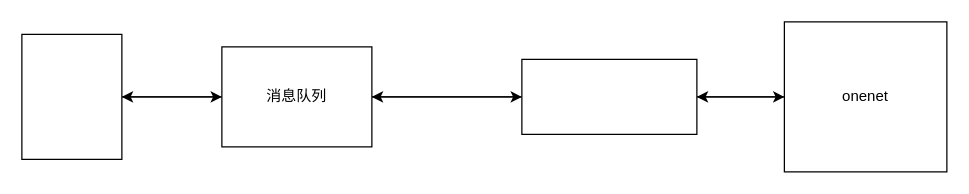
This 969x194 diagram has some shape labels left out. Here are the shapes that lost their labels. From the top down, the box of each, then its label:
(21, 33, 122, 159): 我们的网关
(521, 58, 697, 134): mqtt客户端 (onenet 协议适配服务 )
